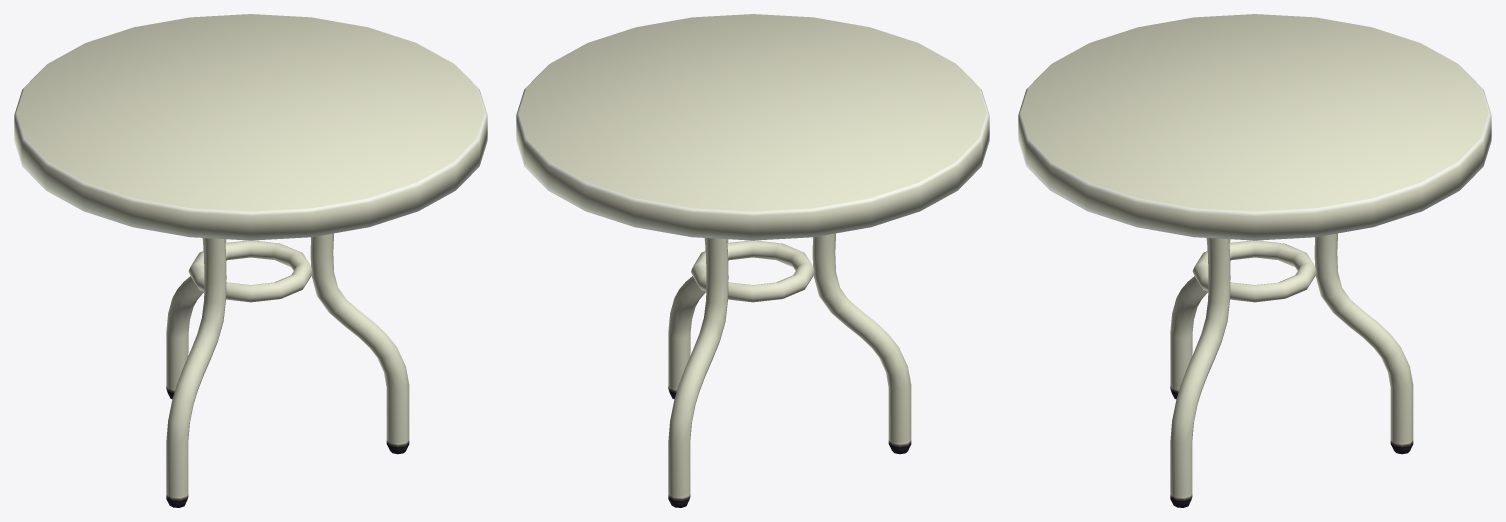
File: roundtable.glb
The picture shows the model from 3 angles, left to right: view 1: azimuth 30°, elevation 25°; view 2: azimuth 150°, elevation 25°; view 3: azimuth 270°, elevation 25°; orthographic projection.
Parts seen in each view (by area): view 1: boardRing_low__mReBody; view 2: boardRing_low__mReBody; view 3: boardRing_low__mReBody.
Boxes of the visible parts, x1,y1,x2,y2 form: boardRing_low__mReBody: [14, 14, 487, 507]; boardRing_low__mReBody: [516, 14, 989, 507]; boardRing_low__mReBody: [1018, 14, 1491, 507].
Bounding box in the file's own units: 0.782 × 0.6205 × 0.782.
1 material, 1 textured.
